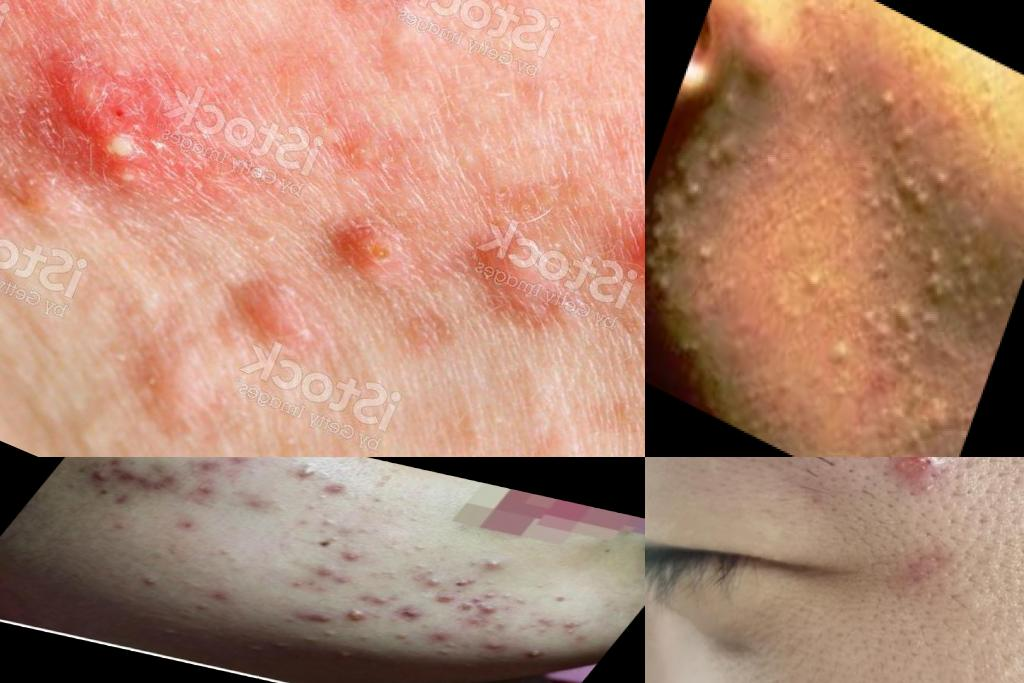acne_scars: (92, 465, 180, 498)
cystic: (434, 192, 603, 354), (306, 186, 411, 298), (613, 151, 646, 336)
papular: (293, 605, 349, 631), (178, 475, 229, 501), (293, 562, 348, 584), (389, 601, 434, 626), (327, 547, 377, 567), (189, 458, 235, 478), (465, 604, 506, 624), (205, 588, 246, 607), (475, 638, 515, 657), (531, 612, 570, 631), (387, 629, 426, 647), (424, 629, 460, 648), (363, 591, 400, 609), (430, 593, 457, 612)
purulent: (281, 459, 332, 489), (472, 554, 523, 578), (334, 606, 379, 627), (519, 645, 555, 664)
sebo-crystan-conglo: (5, 36, 205, 224), (858, 458, 987, 524)
whitehead: (844, 276, 941, 380), (904, 233, 991, 325), (861, 61, 941, 160), (886, 368, 961, 455), (882, 149, 961, 227), (850, 203, 918, 286), (697, 124, 755, 190), (655, 207, 701, 264), (817, 329, 863, 386), (790, 72, 835, 127), (794, 257, 839, 309), (811, 45, 851, 94), (395, 563, 454, 596), (673, 167, 713, 213), (687, 231, 726, 278), (646, 264, 684, 310), (196, 543, 250, 565), (127, 571, 172, 597), (480, 587, 535, 608), (355, 489, 400, 514), (394, 538, 437, 564), (173, 599, 221, 622), (260, 494, 297, 515), (554, 617, 591, 638), (313, 515, 349, 532), (432, 642, 462, 661), (269, 637, 301, 654), (296, 632, 325, 648), (525, 624, 555, 639), (235, 641, 265, 655), (310, 626, 343, 638), (309, 492, 333, 507), (332, 650, 356, 662)
